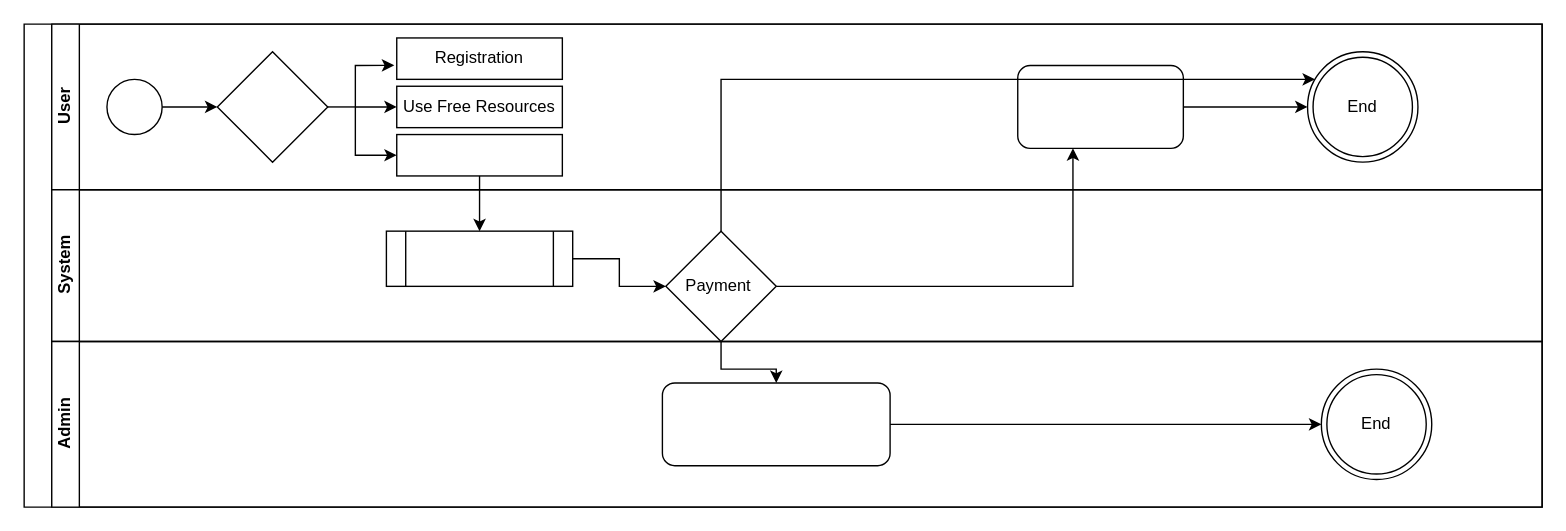
Some shapes in this 1566 by 531 pixel diagram are drawn without their labels. Here are the shapes that lost their labels. From the top down, the centre of each, then its label:
point 1099,106: Enrolled Successfully
point 478,154: Use Paid Resources
point 479,258: Payment Gateway
point 775,424: Enrollment Notification
